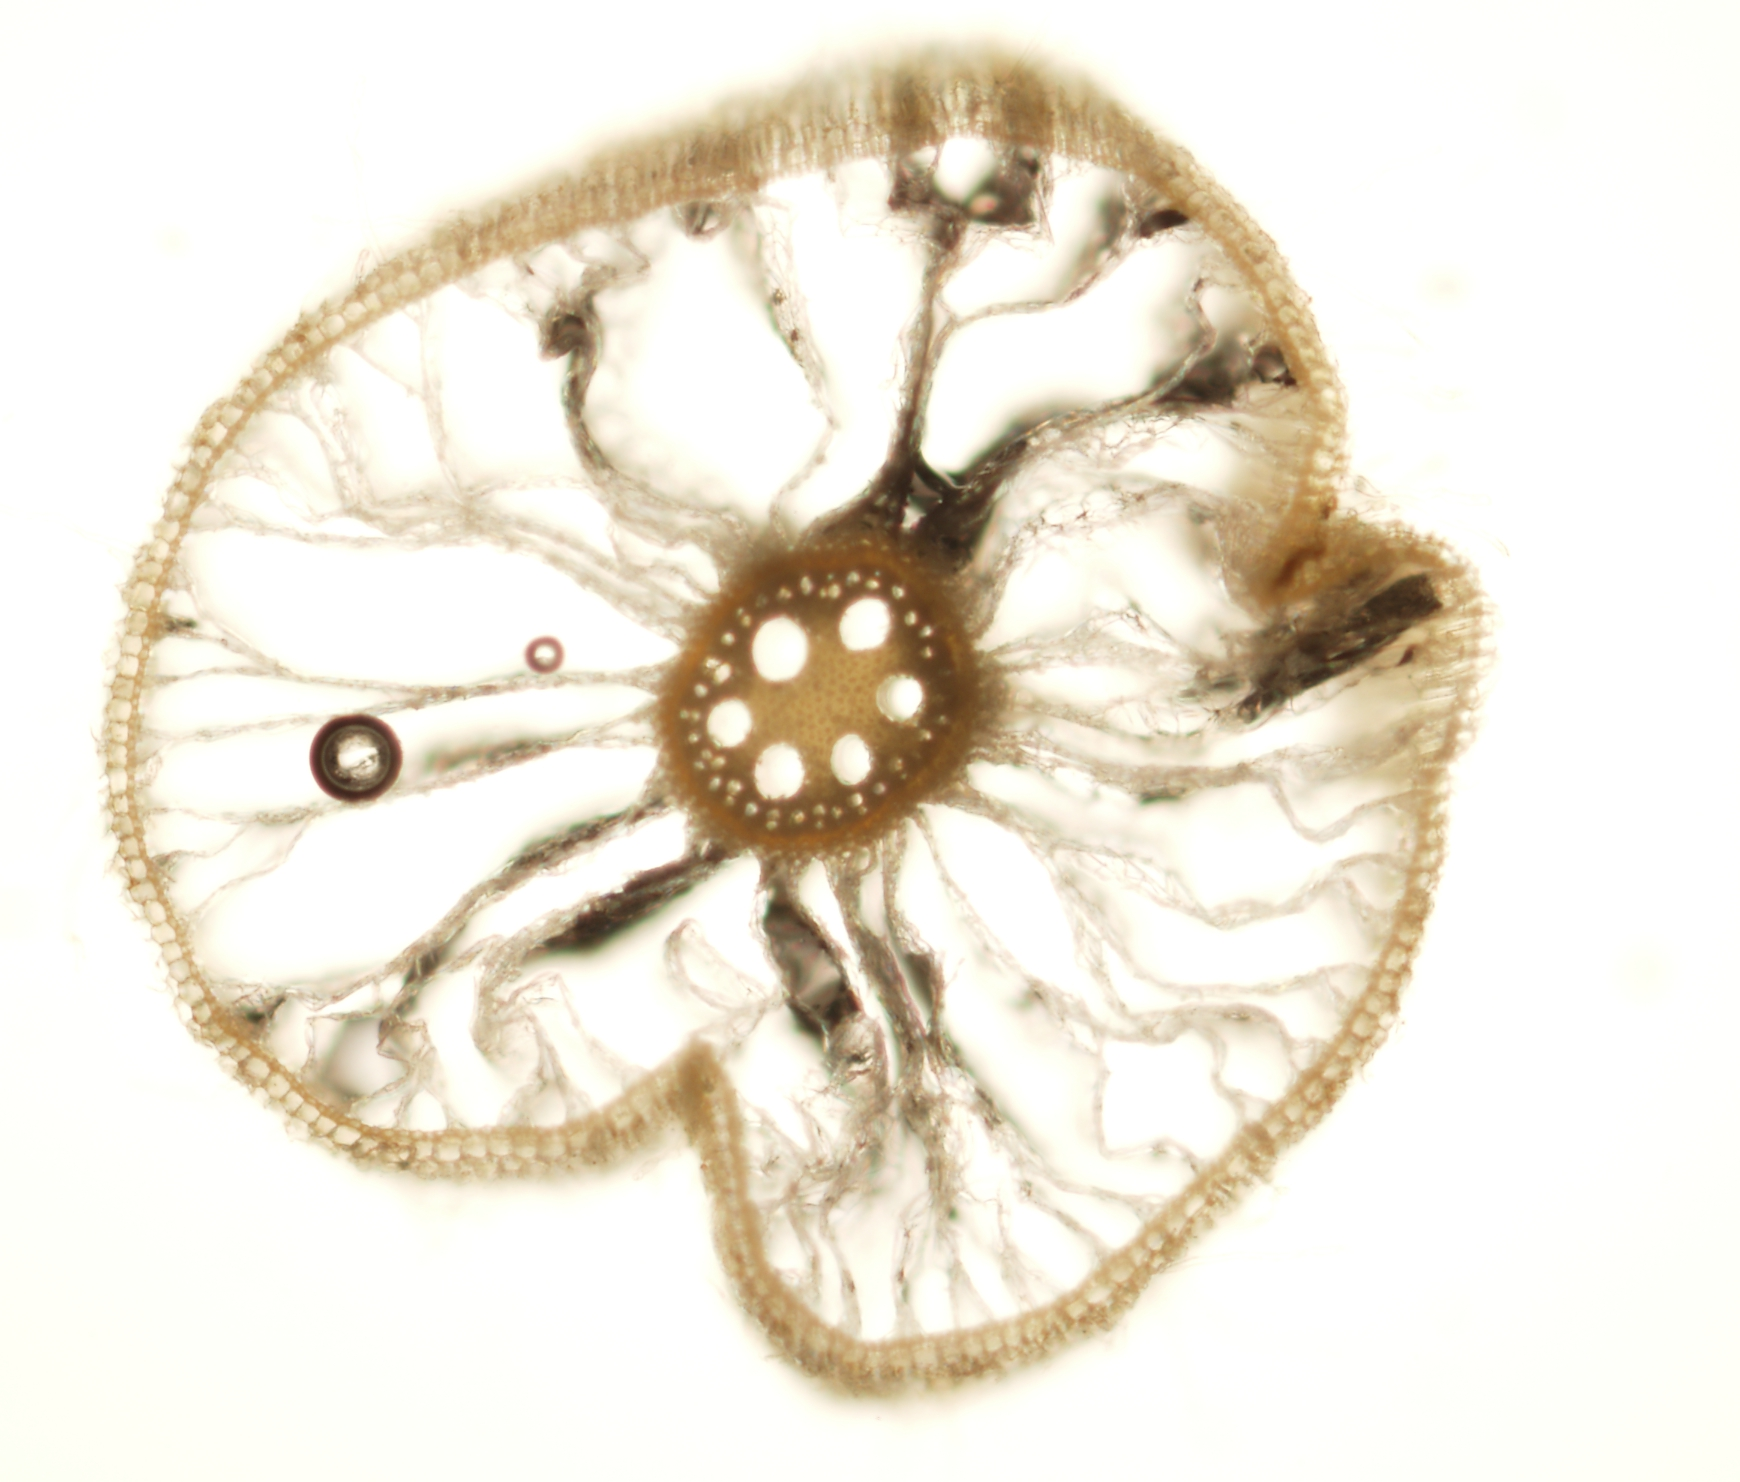lm: (751, 617, 808, 681), (838, 597, 891, 651), (754, 742, 805, 798), (705, 697, 752, 745), (830, 734, 874, 785), (876, 673, 921, 722)
